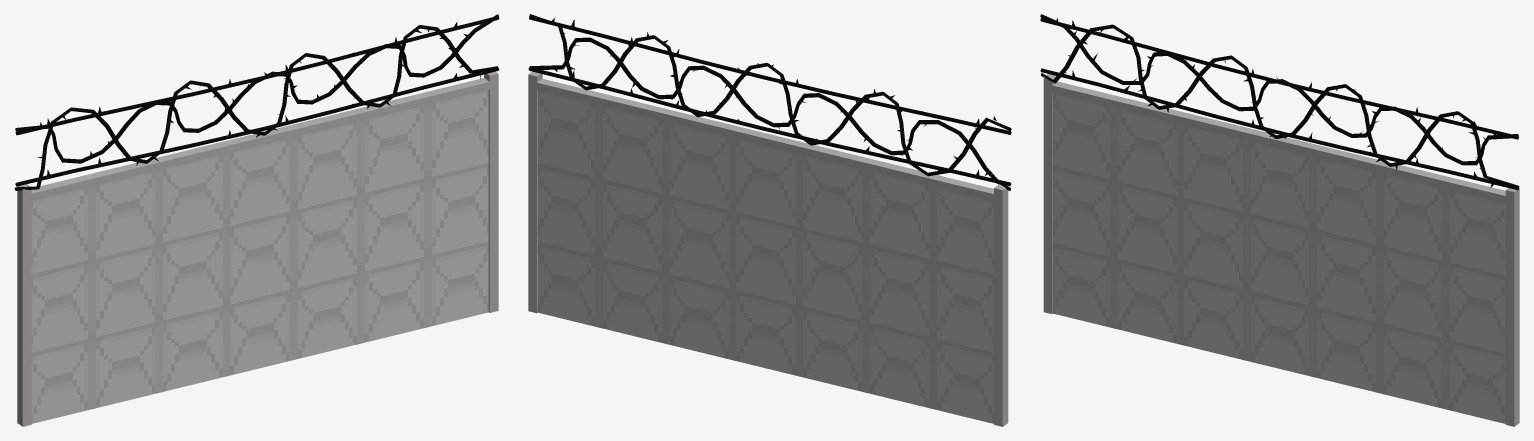
Rendered from stoneFence.glb.
The picture shows the model from 3 angles, left to right: view 1: azimuth 30°, elevation 25°; view 2: azimuth 150°, elevation 25°; view 3: azimuth 330°, elevation 25°; orthographic projection.
Visible parts, largest first — view 1: Cube; view 2: Cube; view 3: Cube.
Boxes of the visible parts, x1,y1,x2,y2 form: Cube: (14, 14, 499, 426); Cube: (528, 14, 1011, 426); Cube: (1040, 14, 1519, 426).
Size of the model in its own units: 5.08 by 3.05 by 0.3778.
2 materials, 1 textured.
